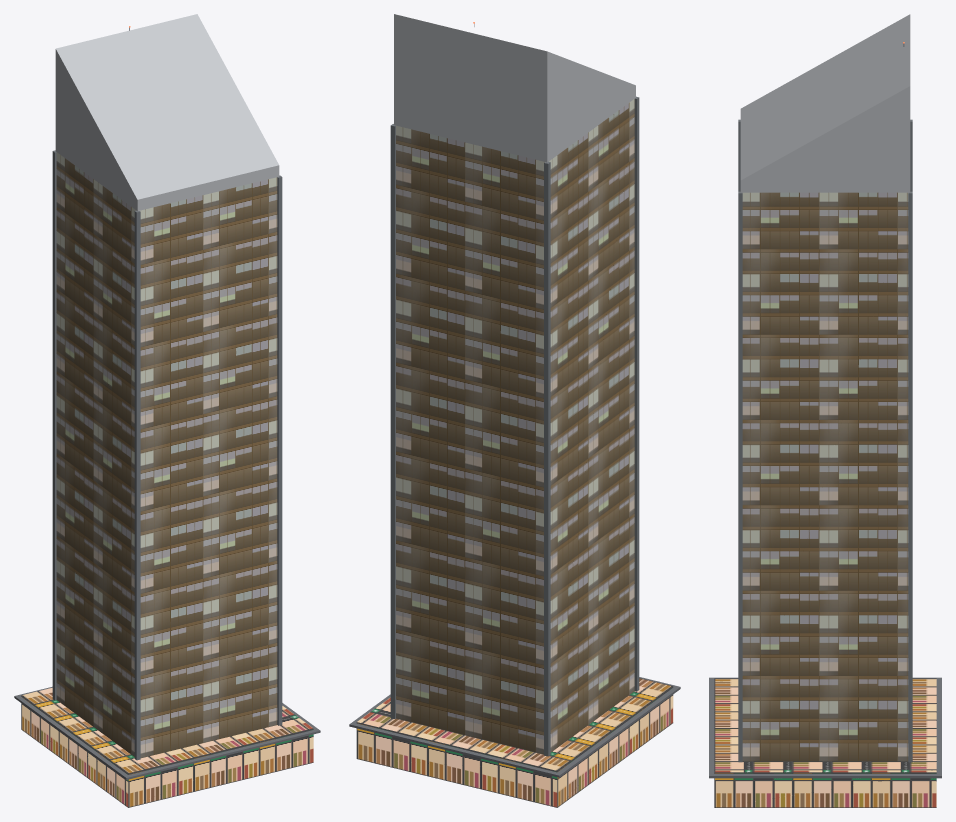
The model's file is tower_bronze.glb.
The picture shows the model from 3 angles, left to right: view 1: azimuth 30°, elevation 25°; view 2: azimuth 150°, elevation 25°; view 3: azimuth 270°, elevation 25°; orthographic projection. The views are drawn at different scales.
Visible parts, largest first — view 1: tower_bronze; view 2: tower_bronze; view 3: tower_bronze.
Part boxes in pixels (x1=…): tower_bronze: x1=14, y1=14, x2=320, y2=807; tower_bronze: x1=349, y1=14, x2=680, y2=807; tower_bronze: x1=709, y1=14, x2=941, y2=807.
Size of the model in its own units: 35.6 by 121 by 35.6.
Materials: 6 (2 with a texture image).
